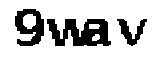9: (10, 5, 45, 53)
a: (87, 17, 112, 49)
v: (115, 15, 148, 48)
w: (47, 17, 87, 48)
